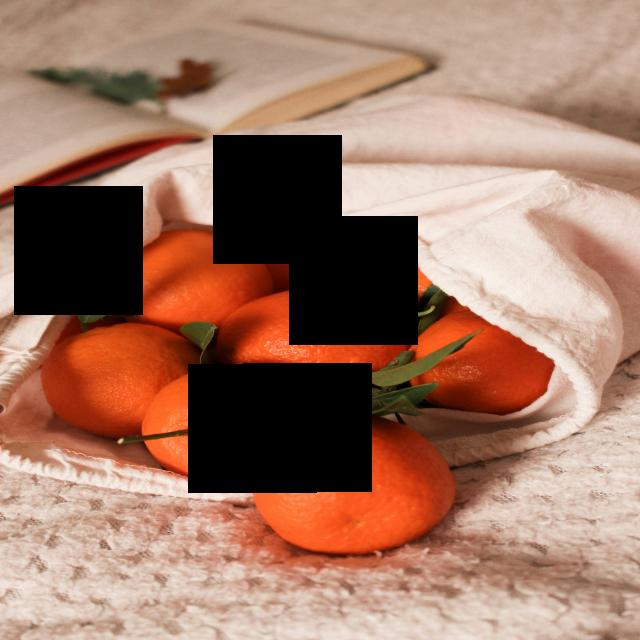tangerine: (249, 416, 458, 557), (140, 367, 321, 488), (40, 324, 208, 441), (216, 289, 415, 375), (107, 232, 277, 329), (411, 307, 555, 416), (240, 233, 363, 293), (369, 251, 454, 320)
